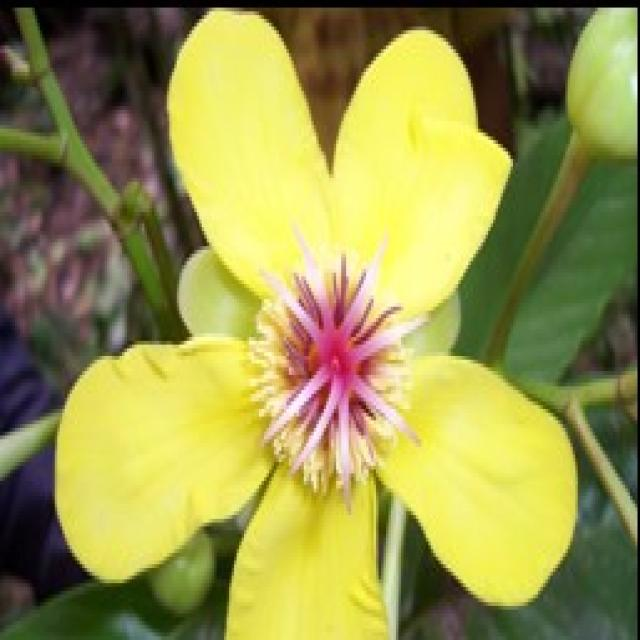Simpoh-Lak: (48, 0, 586, 636)
